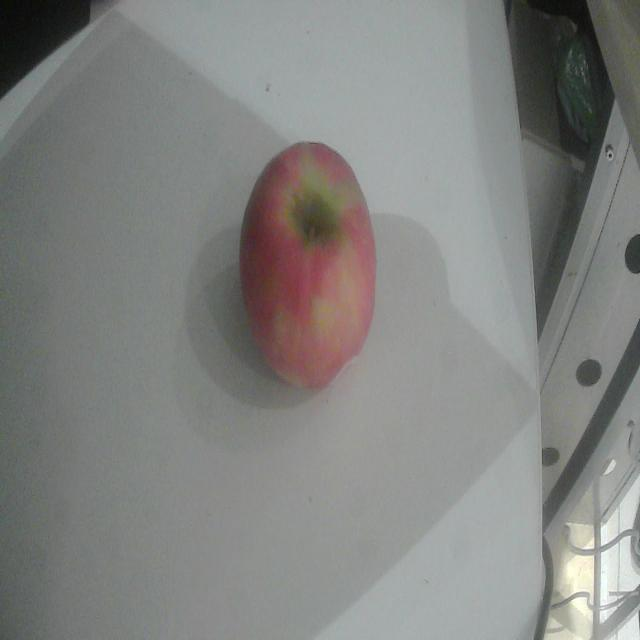Apple: (240, 142, 376, 388)
